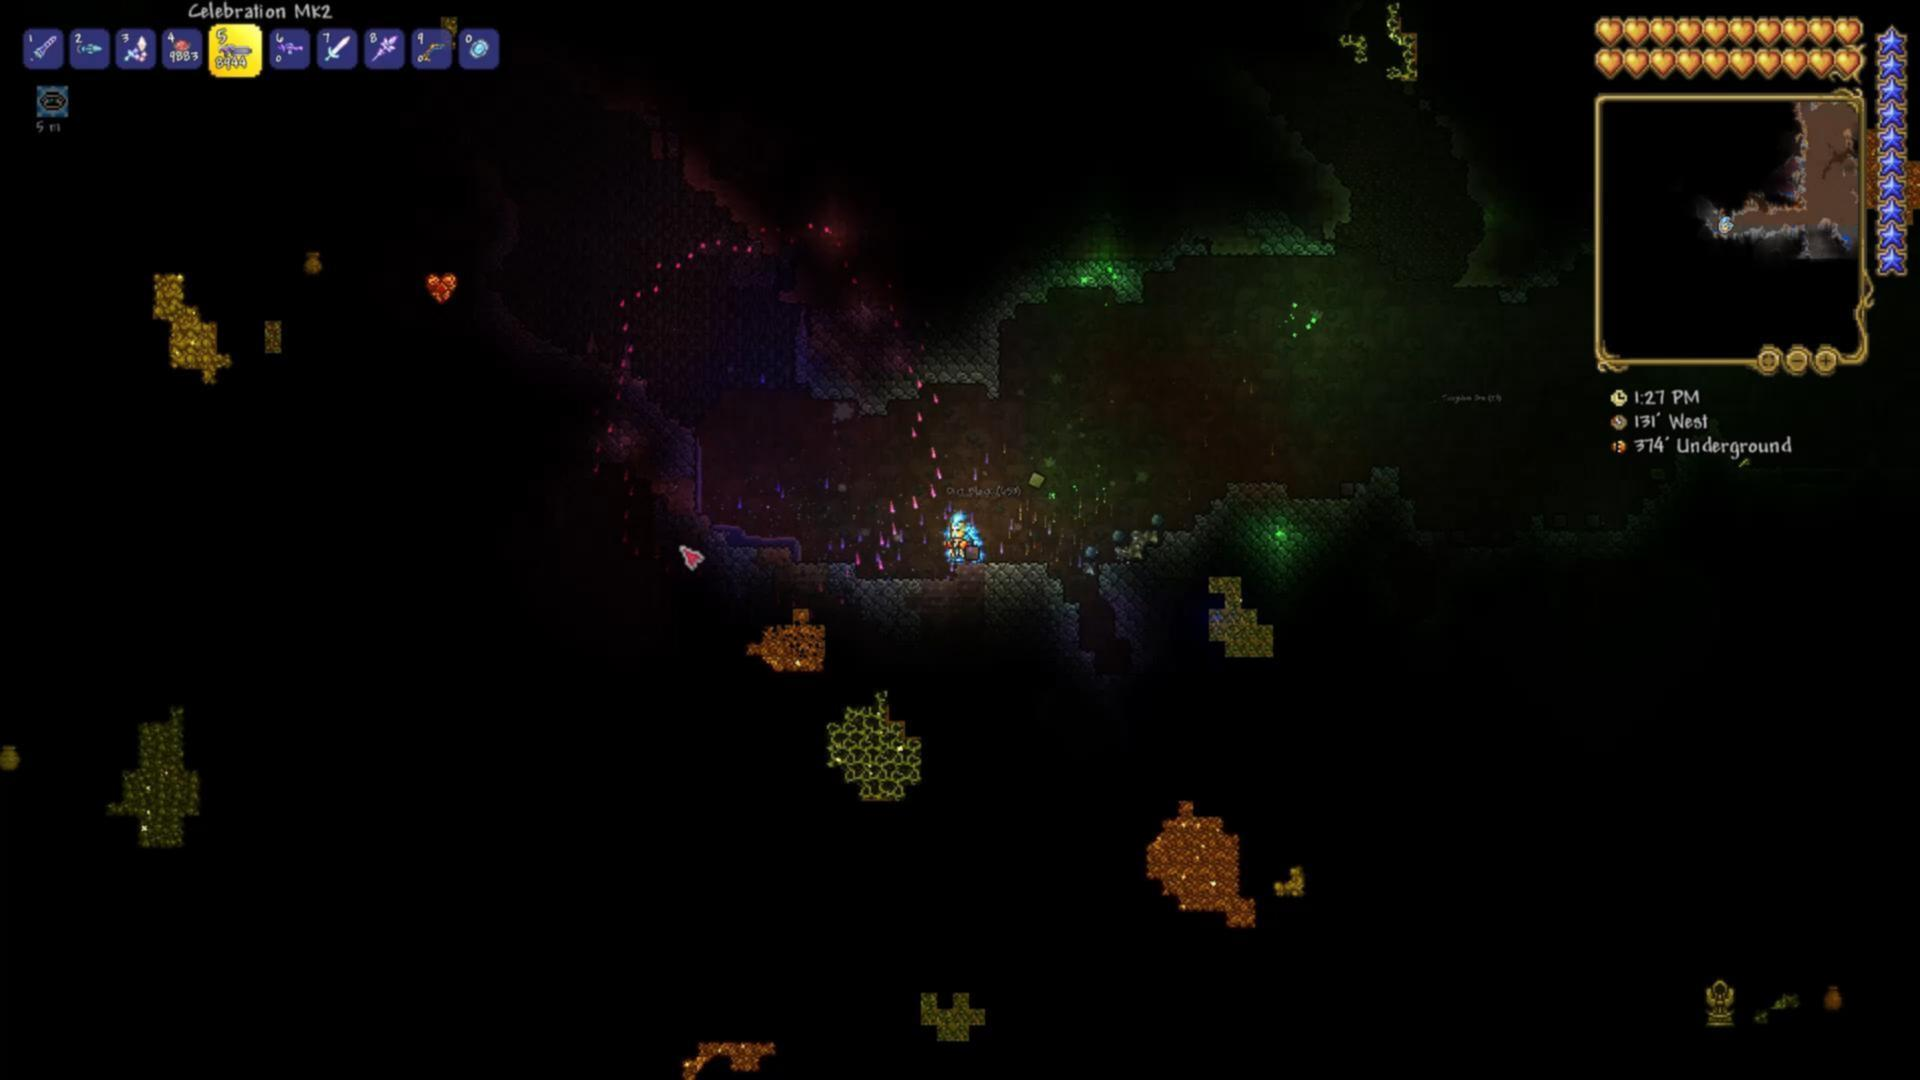lifeC: (425, 269, 460, 302)
pot: (1821, 981, 1850, 1019), (301, 248, 328, 276)
